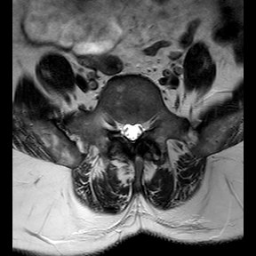CCS_stenosis: (128, 113, 136, 148)
LFS_normal: (144, 110, 152, 136)
LLS_normal: (136, 113, 144, 141)
RFS_normal: (111, 110, 120, 138)
RLS_normal: (120, 113, 128, 144)
